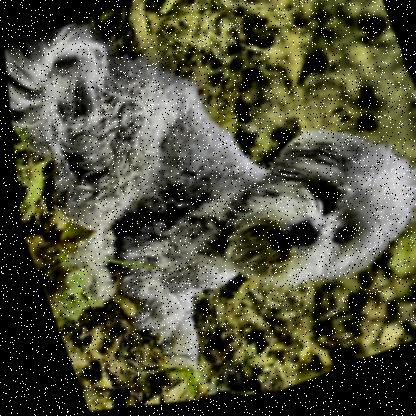dog: (180, 100, 415, 326)
